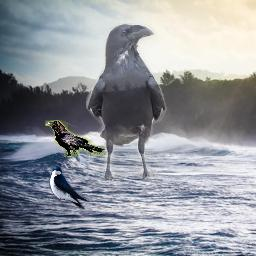Crow: (86, 23, 167, 182), (45, 120, 105, 157)
Swallow: (49, 165, 89, 209)
